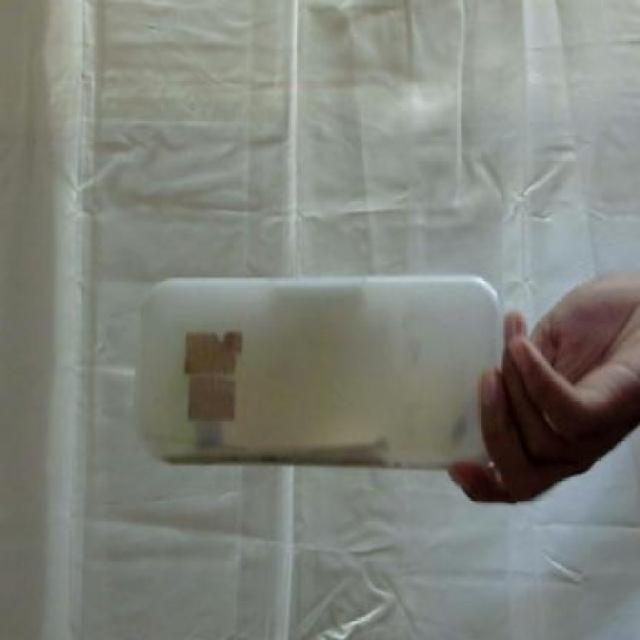Plastic: (125, 267, 509, 484)
